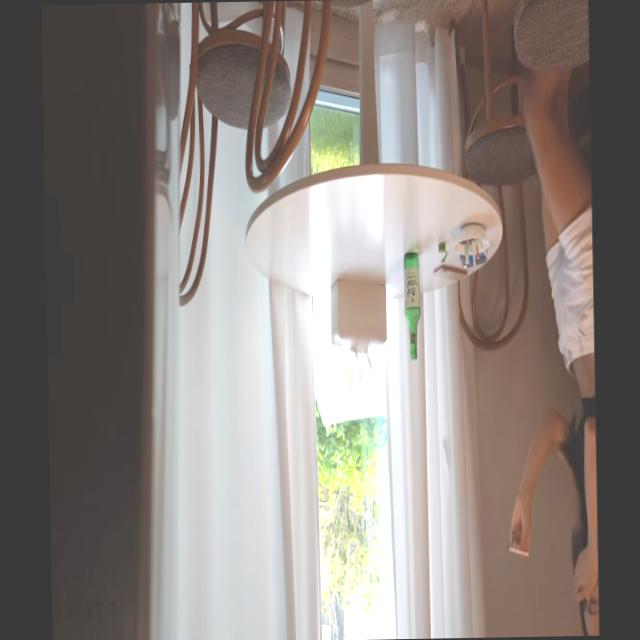cigarette: (506, 537, 536, 562)
